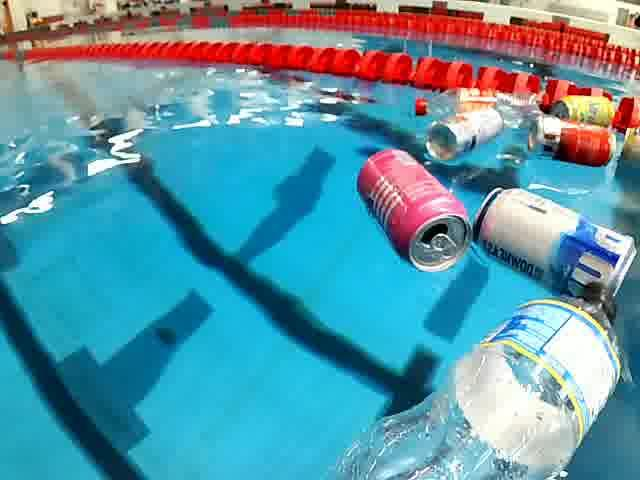Bottle: (330, 279, 630, 480), (407, 86, 545, 129)
Can: (467, 185, 639, 313), (350, 147, 473, 276), (522, 110, 625, 173), (422, 106, 505, 161), (546, 94, 618, 129)
